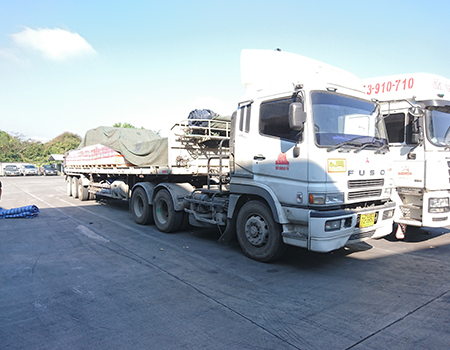truck: (226, 41, 397, 264)
